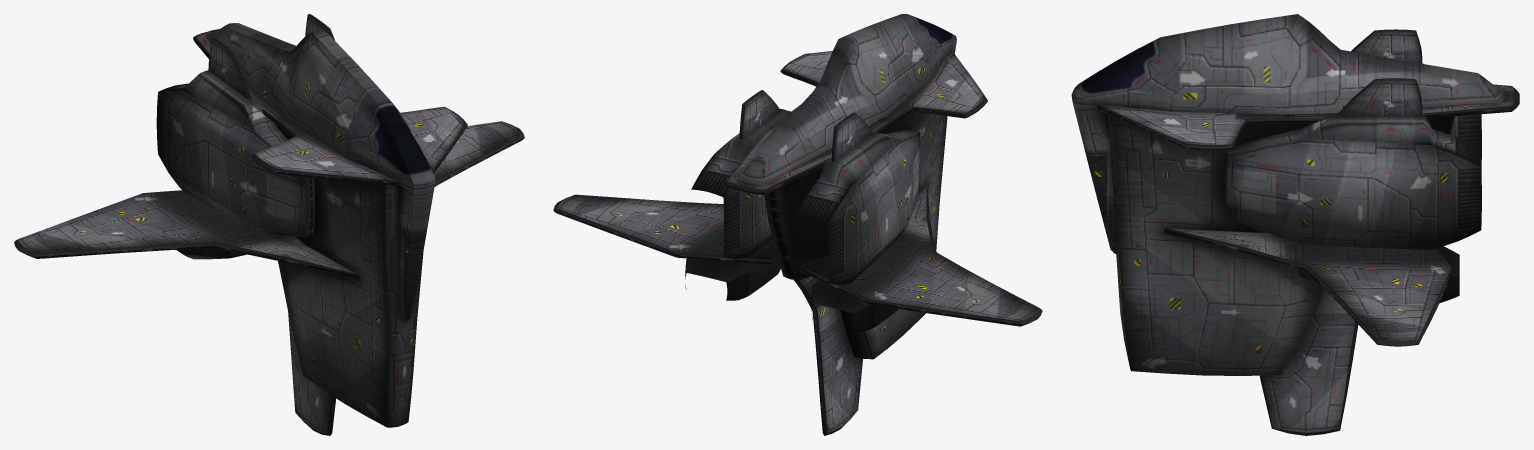
File: admonisher.gltf
3 views of the same model, side by side, from view 1: azimuth 30°, elevation 25°; view 2: azimuth 150°, elevation 25°; view 3: azimuth 270°, elevation 25° (orthographic). The views are drawn at different scales.
Visible parts, largest first — view 1: body; view 2: body; view 3: body.
Part boxes in pixels (x1,y1,x2,y2): body: [14, 14, 524, 435]; body: [553, 14, 1042, 435]; body: [1071, 14, 1519, 435].
Bounding box in the file's own units: 9.32 × 7.18 × 6.94.
1 material, 1 textured.
